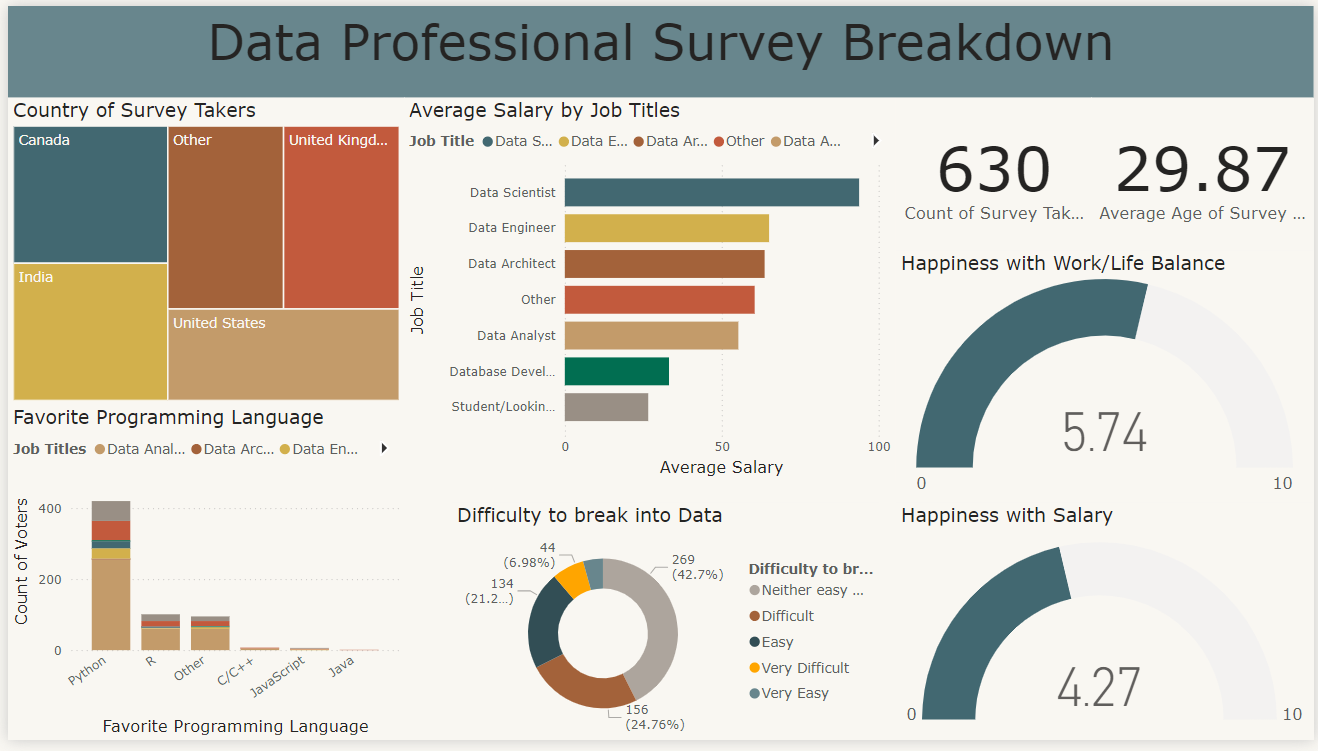

The page's visual inventory and layout, read from the dashboard file:
{"tool":"powerbi","page":{"name":"Page 1","canvas":[1280,720],"ordinal":0},"visuals":[{"type":"textbox","box":[0,0,1280,90],"z":0},{"type":"card","fields":{"Values":["Count(Data Professional Survey.Unique ID)"]},"box":[870,90,192,150],"z":1000},{"type":"card","fields":{"Values":["Avg(Data Professional Survey.Q10 - Current Age)"]},"box":[1061.5,89.3,218,149.9],"z":2000},{"type":"barChart","title":"Average Salary by Job Titles","fields":{"Category":["Data Professional Survey.Q1 - Which Title Best Fits your Current Role?.1"],"Y":["Avg(Data Professional Survey.Average Salary)"],"Series":["Data Professional Survey.Q1 - Which Title Best Fits your Current Role?.1"]},"box":[388,90,482,376],"z":3000},{"type":"columnChart","title":"Favorite Programming Language","fields":{"Category":["Data Professional Survey.Q5 - Favorite Programming Language.1"],"Y":["CountNonNull(Data Professional Survey.Unique ID)"],"Series":["Data Professional Survey.Q1 - Which Title Best Fits your Current Role?.1"]},"box":[0,391.7,388.3,328.3],"z":4000},{"type":"treemap","title":"Country of Survey Takers","fields":{"Group":["Data Professional Survey.Q11 - Which Country do you live in?.1"],"Values":["Count(Data Professional Survey.Q11 - Which Country do you live in?.1)"]},"box":[0,90,388.3,301.7],"z":5000},{"type":"gauge","title":"Happiness with Salary","fields":{"Y":["Avg(Data Professional Survey.Q6 - How Happy are you in your Current Position with the following? (Salary))"],"MinValue":["Min(Data Professional Survey.Q6 - How Happy are you in your Current Position with the following? (Salary))"],"MaxValue":["Max(Data Professional Survey.Q6 - How Happy are you in your Current Position with the following? (Salary))"]},"box":[870,486.7,408.3,233.3],"z":6000},{"type":"gauge","title":"Happiness with Work/Life Balance","fields":{"Y":["Avg(Data Professional Survey.Q6 - How Happy are you in your Current Position with the following? (Work/Life Balance))"],"MinValue":["Min(Data Professional Survey.Q6 - How Happy are you in your Current Position with the following? (Work/Life Balance))"],"MaxValue":["Max(Data Professional Survey.Q6 - How Happy are you in your Current Position with the following? (Work/Life Balance))1"]},"box":[870,240,408.3,246.7],"z":7000},{"type":"donutChart","title":"Difficulty to break into Data","fields":{"Category":["Data Professional Survey.Q7 - How difficult was it for you to break into Data?"],"Y":["CountNonNull(Data Professional Survey.Q7 - How difficult was it for you to break into Data?)"]},"box":[435,486.7,418.3,233.3],"z":8000}]}

Visuals, with their boxes in screenshot pixels (x1, y1, x2, y2), scaled from the page's 1280x720 canvas onto the 1318x751 screenshot:
textbox: 0, 0, 1317, 94
card - Count(Data Professional Survey.Unique ID): 896, 94, 1094, 250
card - Avg(Data Professional Survey.Q10 - Current Age): 1093, 93, 1317, 249
"Average Salary by Job Titles" barChart: 400, 94, 896, 486
"Favorite Programming Language" columnChart: 0, 409, 400, 750
"Country of Survey Takers" treemap: 0, 94, 400, 409
"Happiness with Salary" gauge: 896, 508, 1316, 750
"Happiness with Work/Life Balance" gauge: 896, 250, 1316, 508
"Difficulty to break into Data" donutChart: 448, 508, 879, 750
